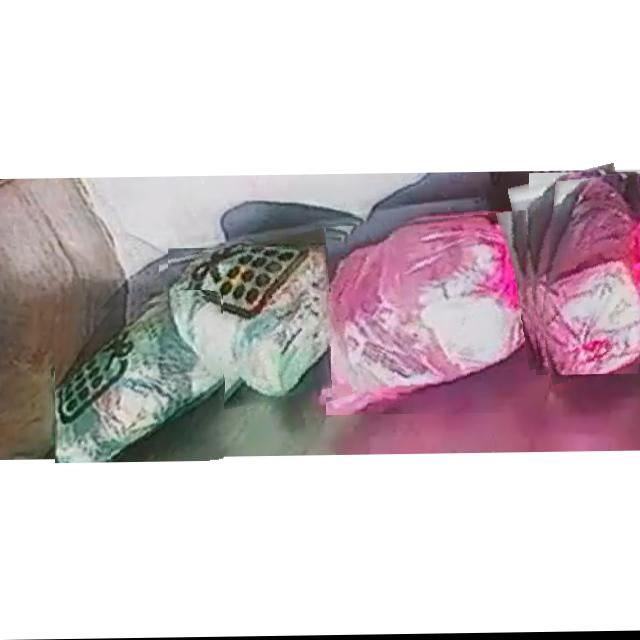general_trashbag: (55, 299, 223, 463), (168, 248, 330, 396)
other_trashbag: (326, 215, 533, 415), (541, 176, 640, 376)
